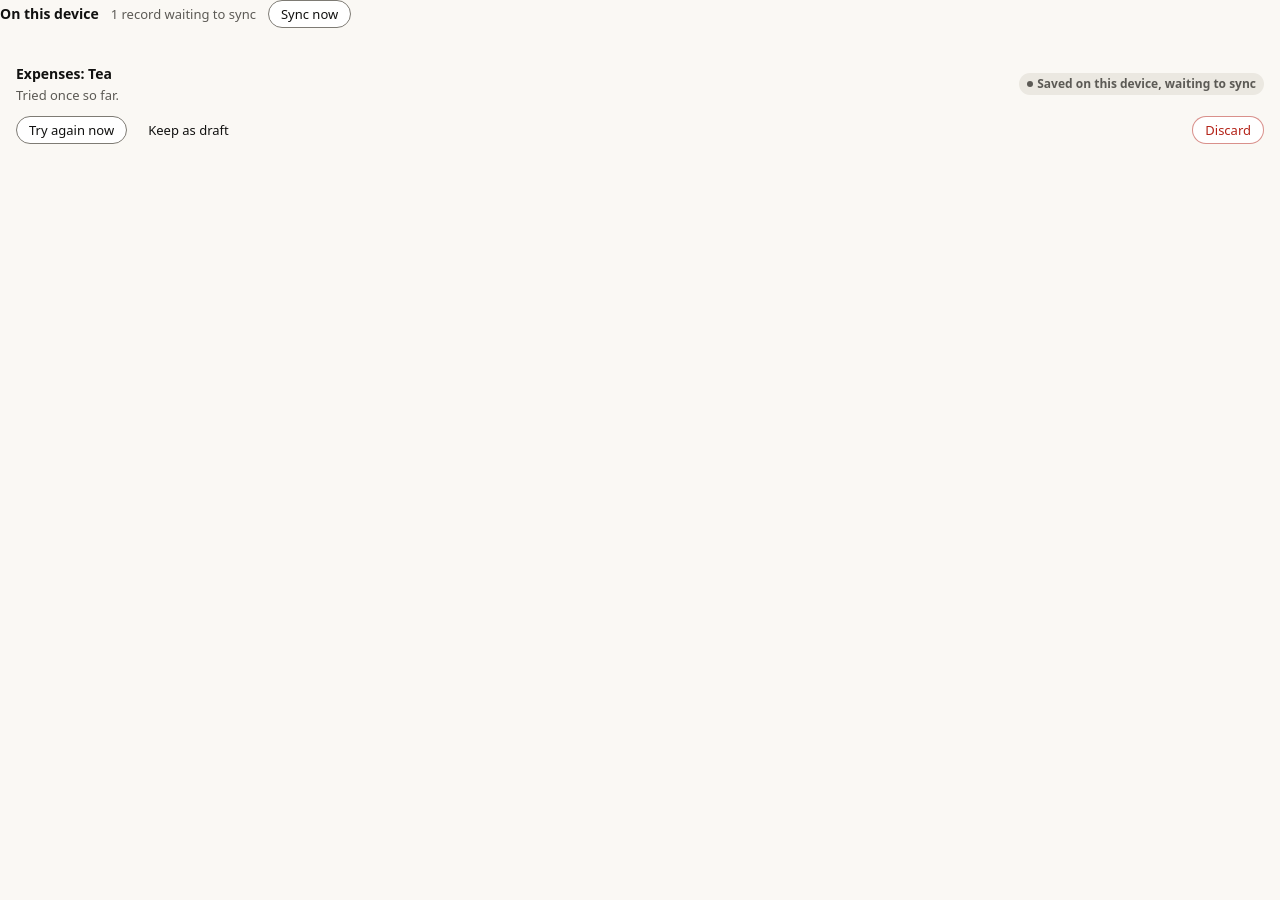
Test case: an entry from before sends were counted (one attempt, no counter) says the server may have the record
The width and height of the screenshot is (1280, 900).
Expected: the text "Saved on this device, waiting to sync" is shown, [1019,73,1264,95]
Step 1. Click the button "Discard" → click(1228, 130), box [1192,116,1264,144]
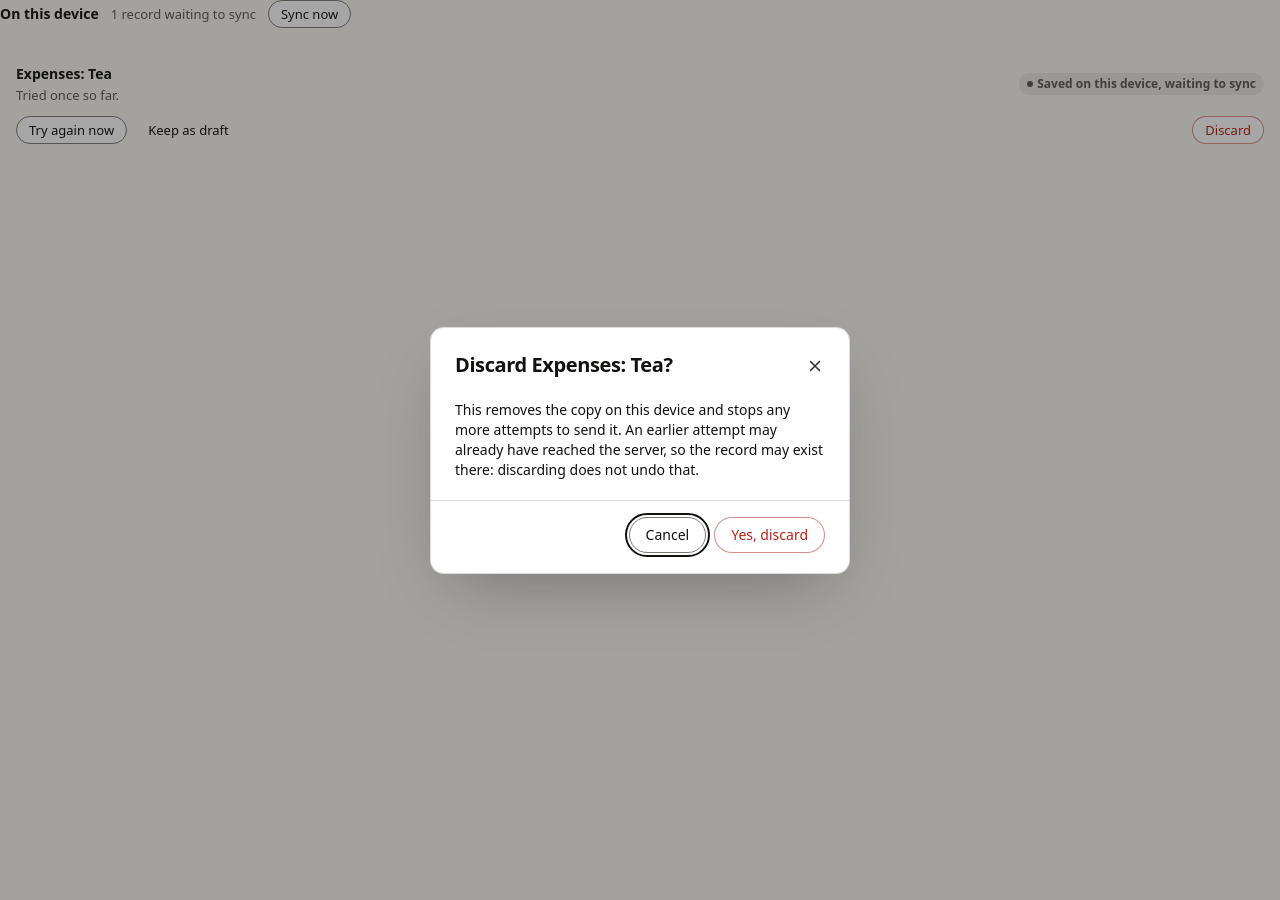
Now the button "Yes, discard" is shown, box [714,516,825,552]
Now the text "may already have reached the server" is shown, box [455,400,823,478]
